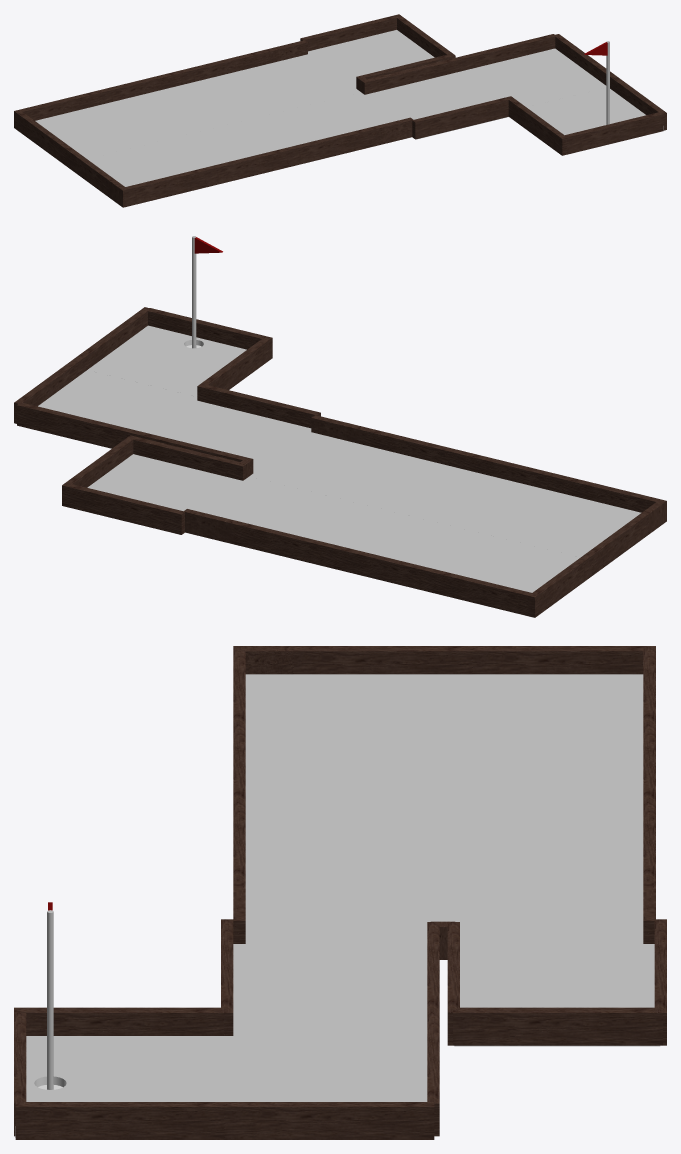
File: Hole4.fbx
3 views of the same model, one above another, from view 1: azimuth 30°, elevation 25°; view 2: azimuth 150°, elevation 25°; view 3: azimuth 270°, elevation 25° (orthographic). The views are drawn at different scales.
Parts seen in each view (by area): view 1: pCube74; view 2: pCube74; view 3: pCube74.
Boxes of the visible parts, box(x1,y1,x2,y2) form: pCube74: box(14, 14, 666, 207); pCube74: box(14, 236, 666, 617); pCube74: box(14, 646, 666, 1139).
Bounding box in the file's own units: 38.66 × 7.12 × 23.14.
